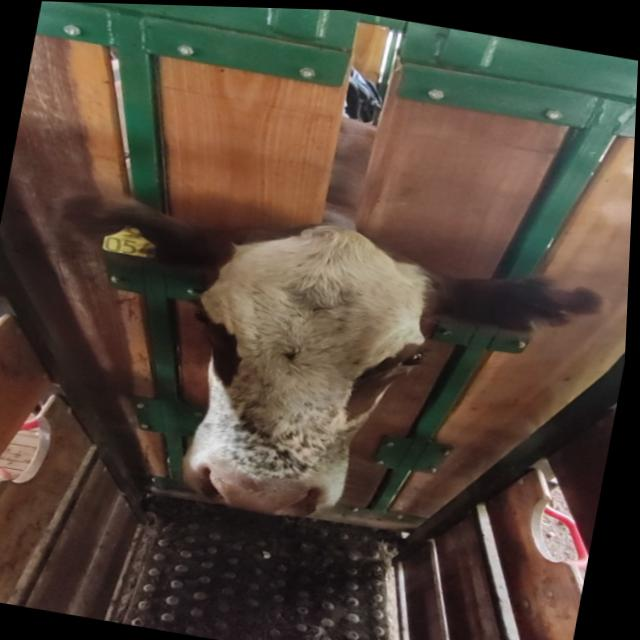cowFace: (162, 204, 452, 537)
